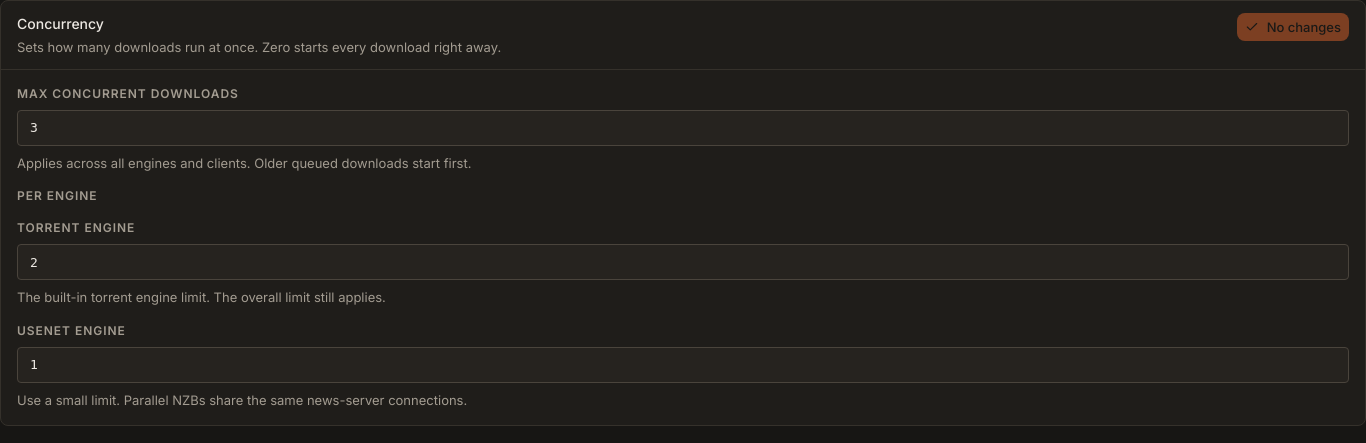
Test: ConcurrencySettings › normalizes a changed count and saves zero as unlimited
Replace the text in the number field labelled "Max concurrent downloads" with "0000": (683, 128) [17,110,1349,146]
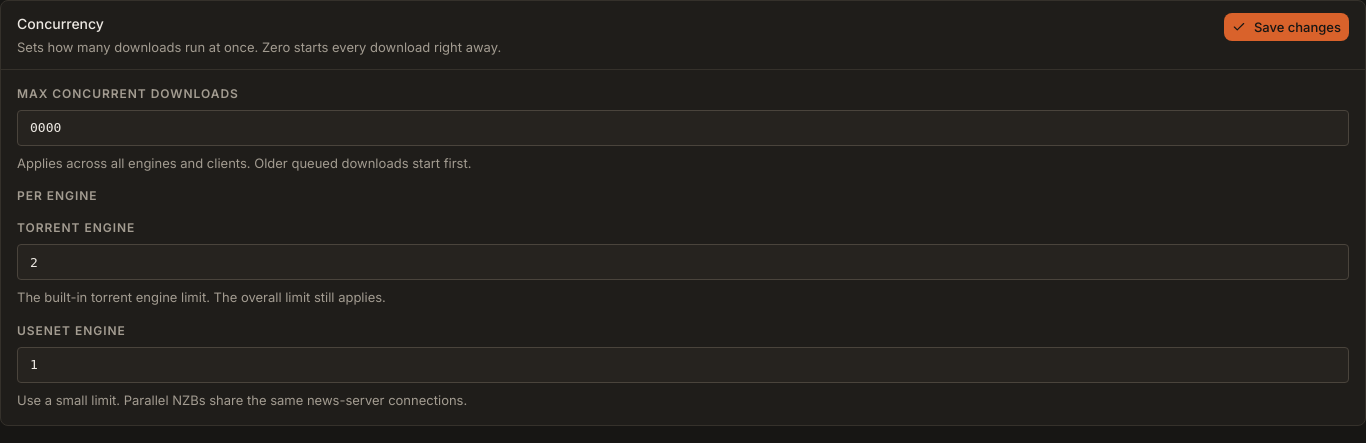
Replace the text in the number field labelled "Torrent engine" with "0004": (683, 262) [17,244,1349,280]
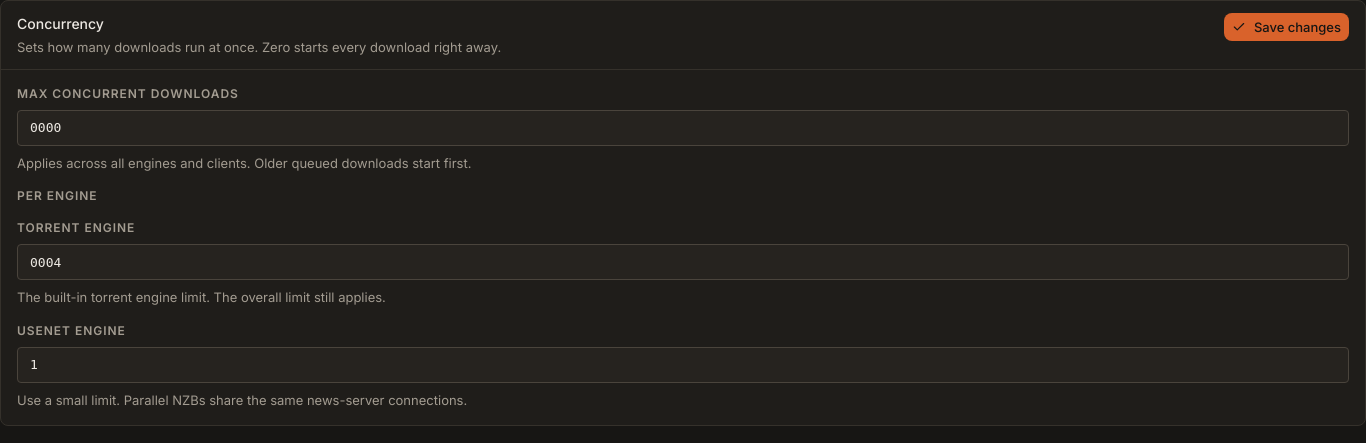
Now the button "Save changes" is enabled
Click the button "Save changes": (1286, 27) [1224,13,1349,41]
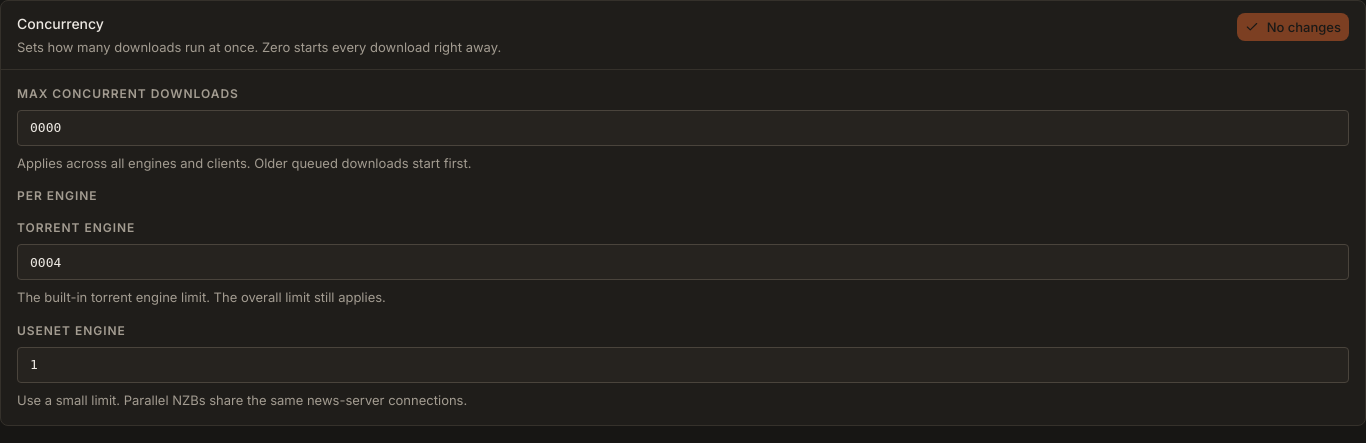
Now the button "No changes" is disabled, box [1237,13,1349,41]
